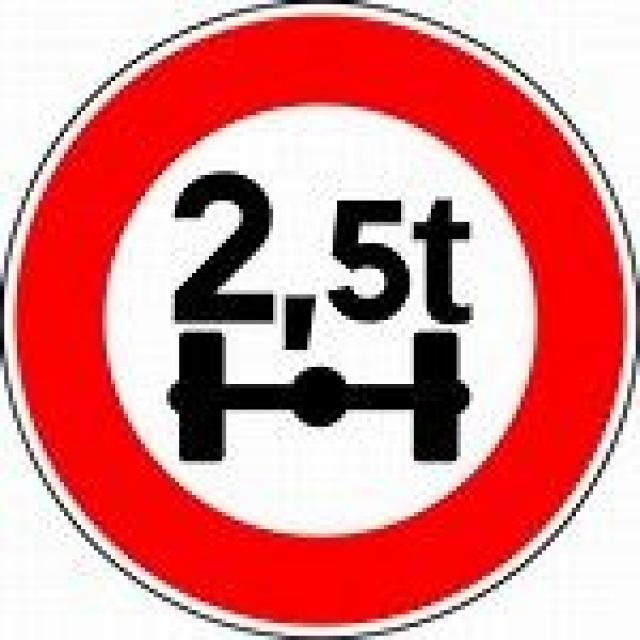axle_load_limit: (0, 0, 636, 636)
